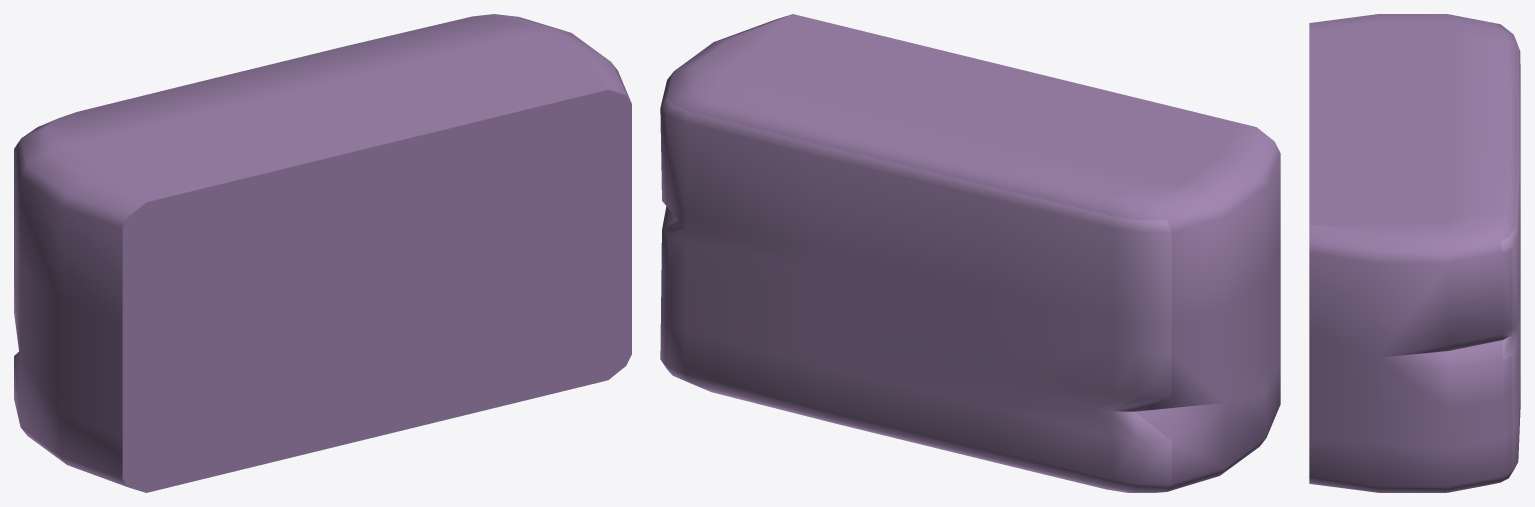
File: RoyalTempleRock_Short.fbx
The picture shows the model from 3 angles, left to right: view 1: azimuth 30°, elevation 25°; view 2: azimuth 150°, elevation 25°; view 3: azimuth 270°, elevation 25°; orthographic projection. The views are drawn at different scales.
Visible parts, largest first — view 1: RoyalTempleRock_Short; view 2: RoyalTempleRock_Short; view 3: RoyalTempleRock_Short.
Boxes of the visible parts, x1=… form: RoyalTempleRock_Short: x1=14, y1=14, x2=631, y2=492; RoyalTempleRock_Short: x1=660, y1=14, x2=1280, y2=492; RoyalTempleRock_Short: x1=1309, y1=14, x2=1520, y2=492.
Size of the model in its own units: 862 by 430 by 318.
1 material, 1 textured.
